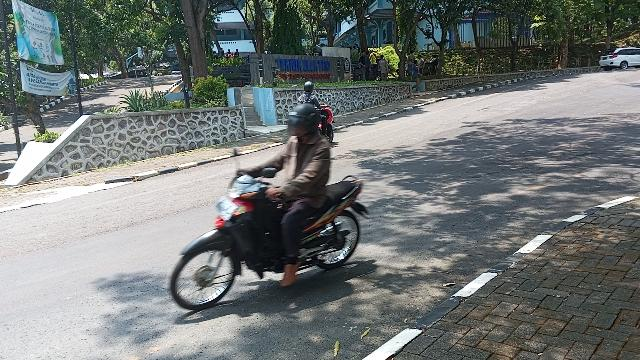helm: (286, 104, 324, 143), (304, 82, 316, 95)
motor: (170, 148, 373, 313)
